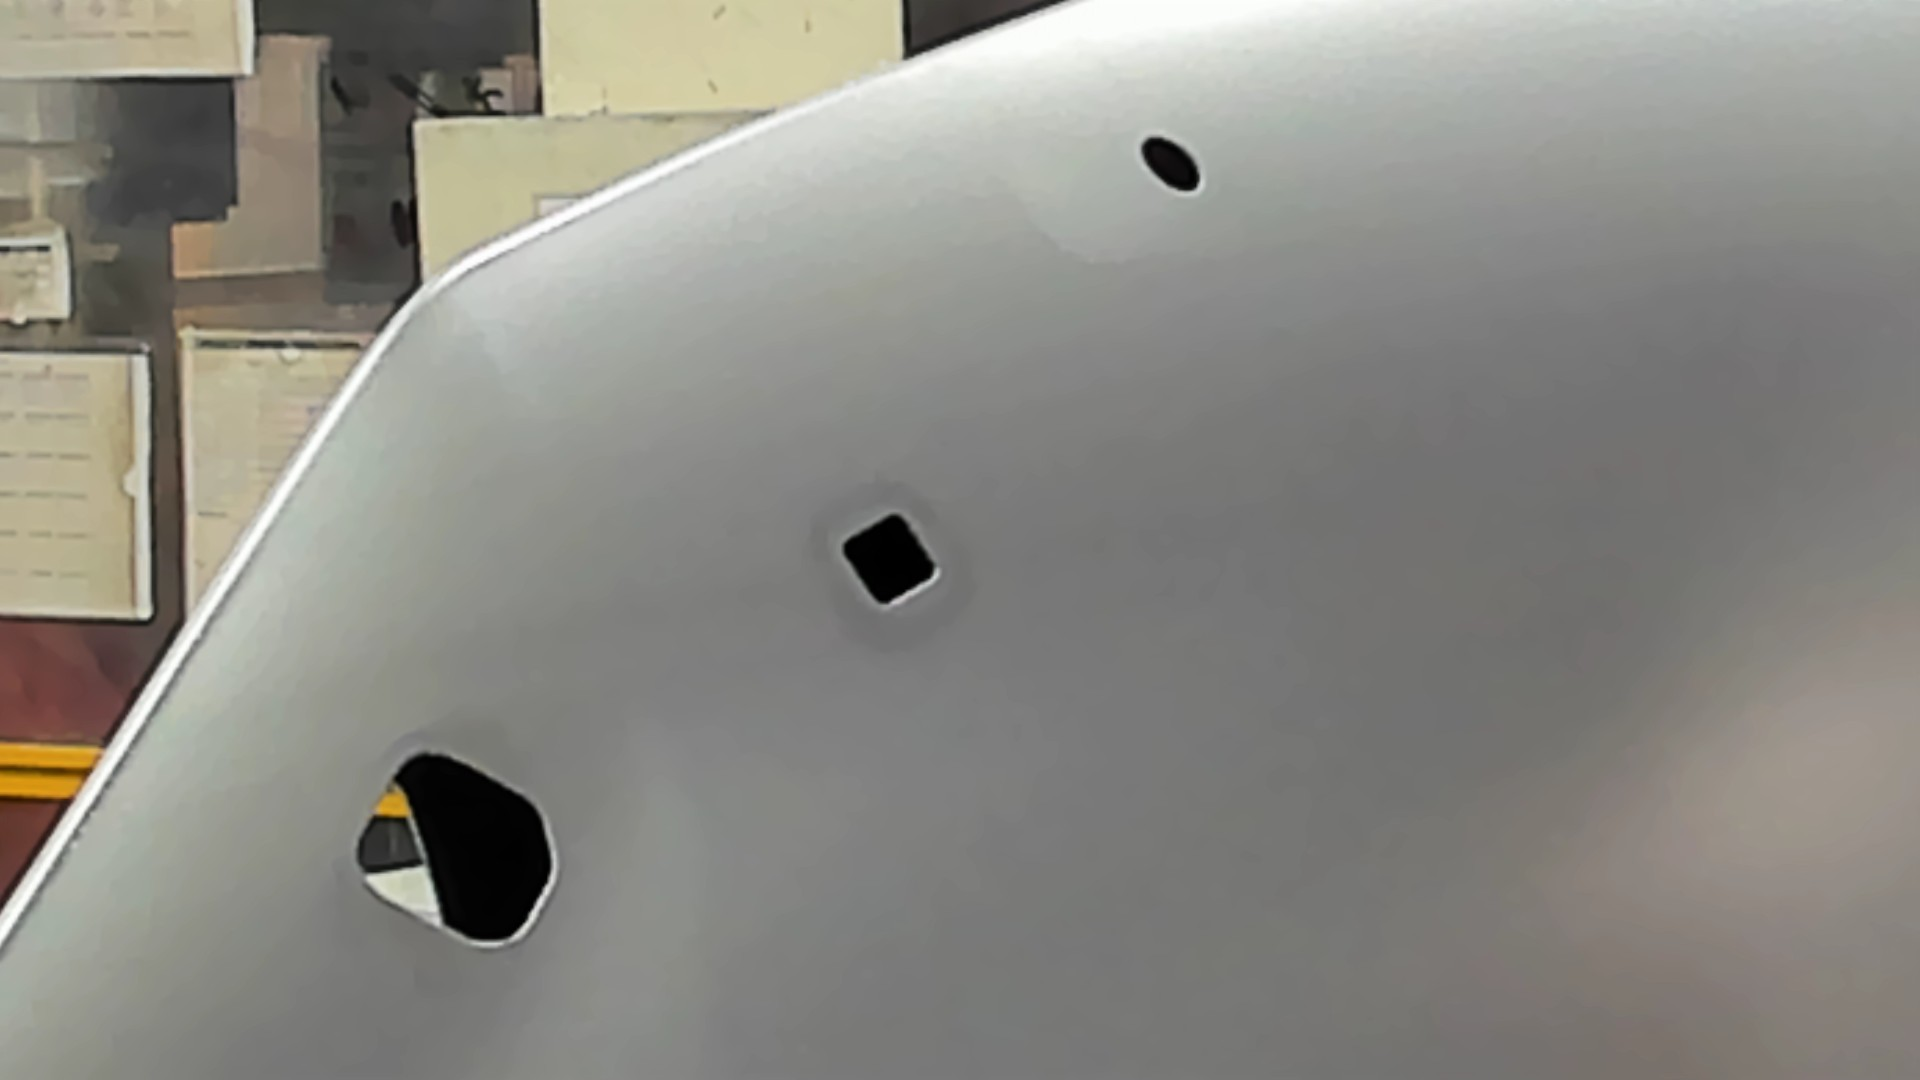chico: (1133, 131, 1207, 200)
grande: (347, 746, 563, 957)
mediano: (833, 509, 942, 611)
